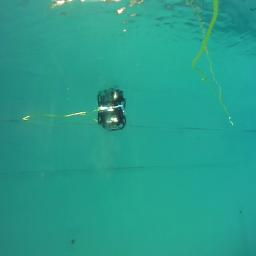Side: (98, 107, 126, 132)
